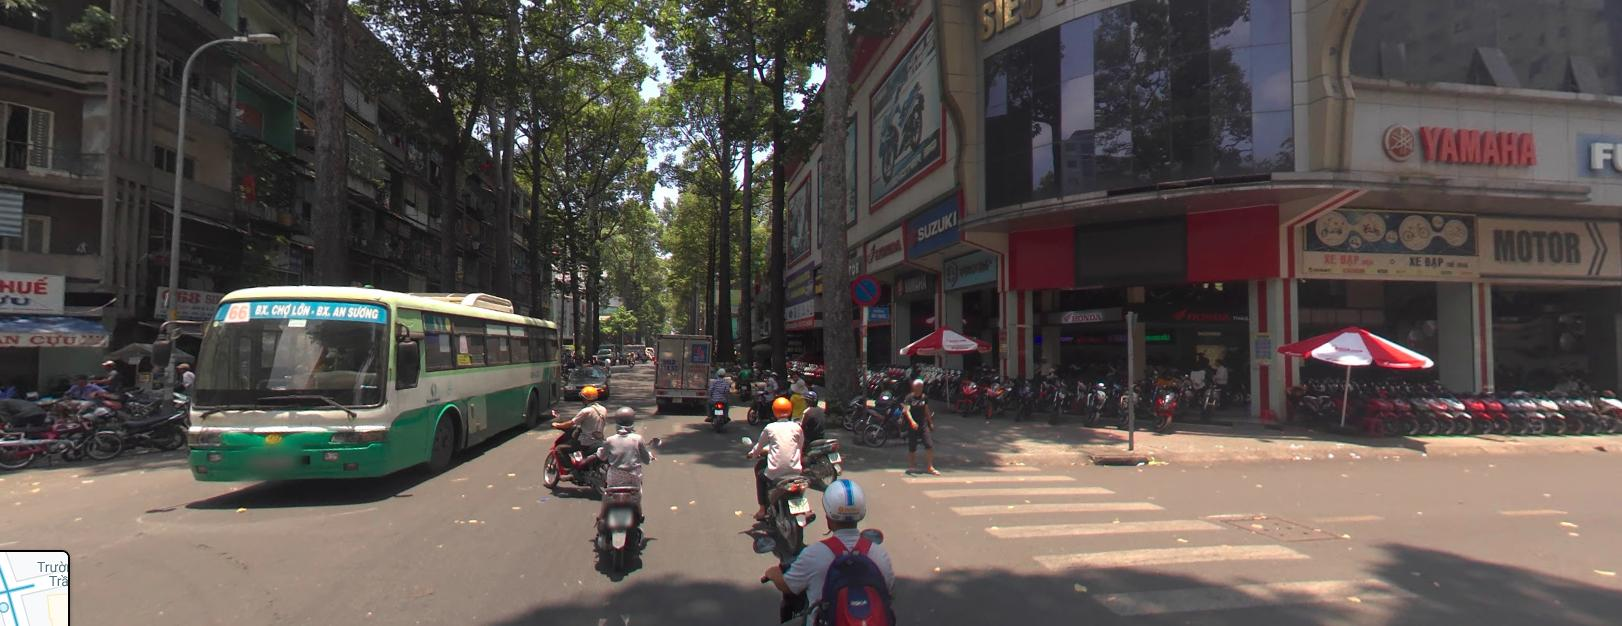Cam dung va do: (847, 270, 884, 308)
